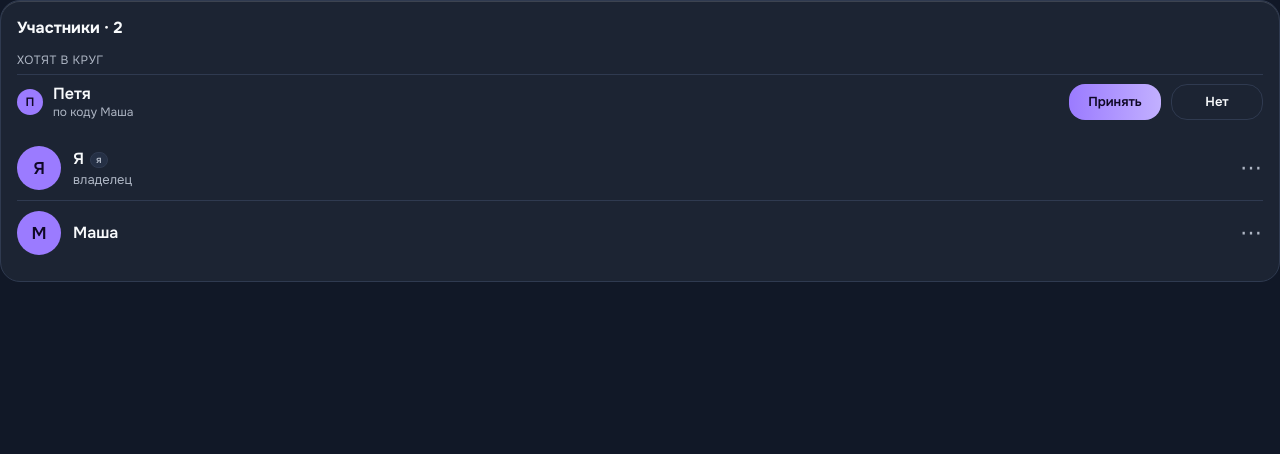
it: CircleMembers — владелец › передать круг — со второго нажатия; у человека свой круг — понятный отказ
The image size is (1280, 454).
Click the button named "Действия: Маша": click(1251, 233) [1229, 211, 1273, 255]
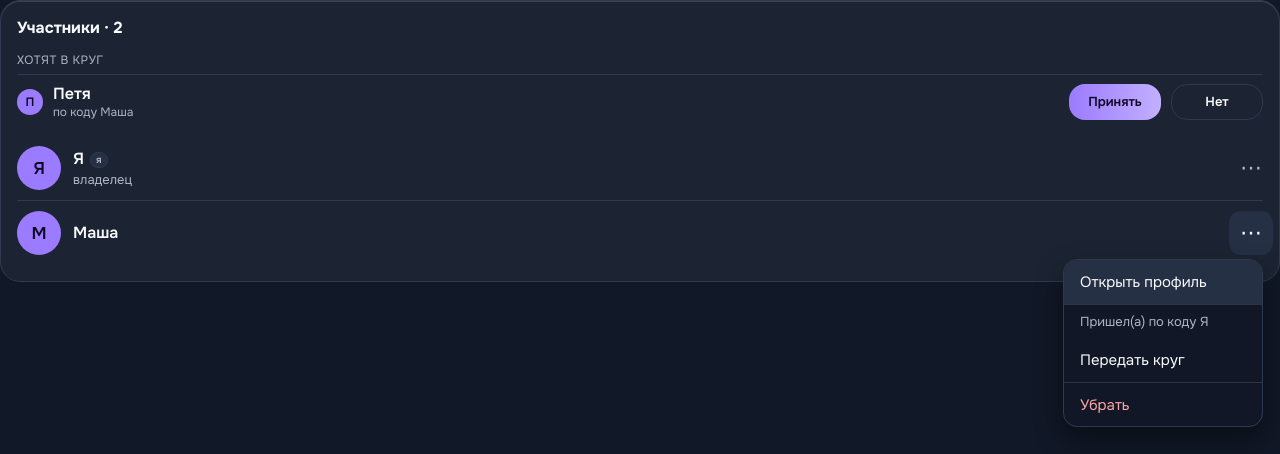
Expected: the text "Пришел(а) по коду Я" is shown, [1064, 304, 1262, 338]
Click the menu item "Передать круг": click(1163, 360) [1064, 338, 1262, 382]
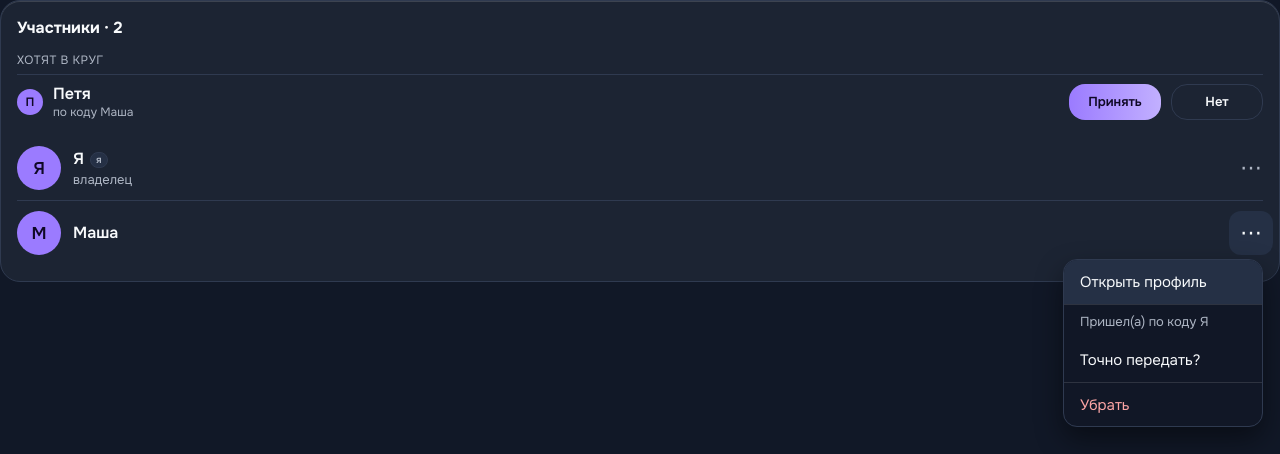
Click the menu item "Точно передать?": click(1163, 360) [1064, 338, 1262, 382]
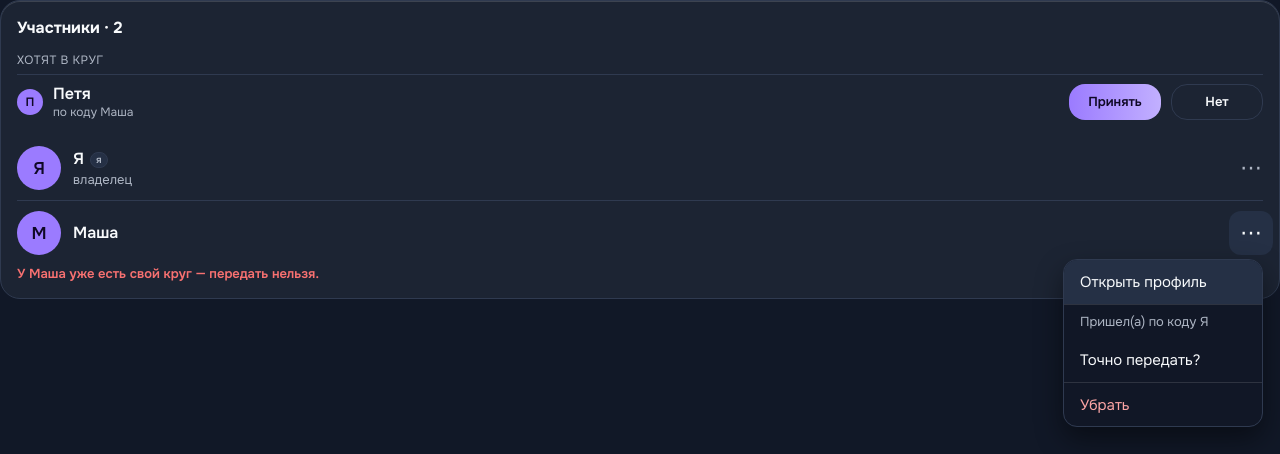
Expected: the message reads "У Маша уже есть свой круг — передать нельзя.", [17, 265, 319, 282]
